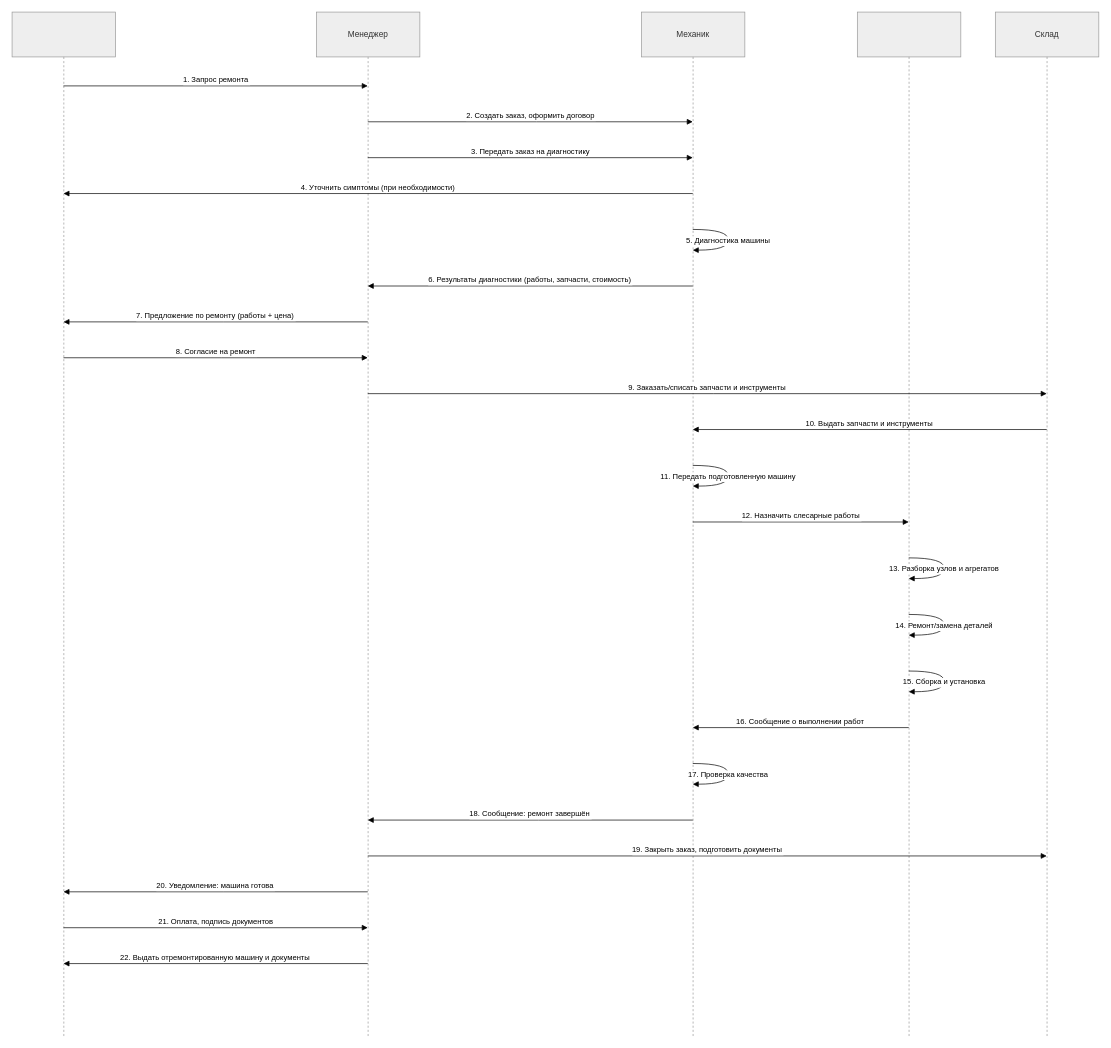
Image size: 1111x1048. Some labels were removed from this diagram. Each missing label, with the box of its shape:
Клиент: (11, 11, 116, 1036)
Слесарь: (857, 11, 961, 1036)
